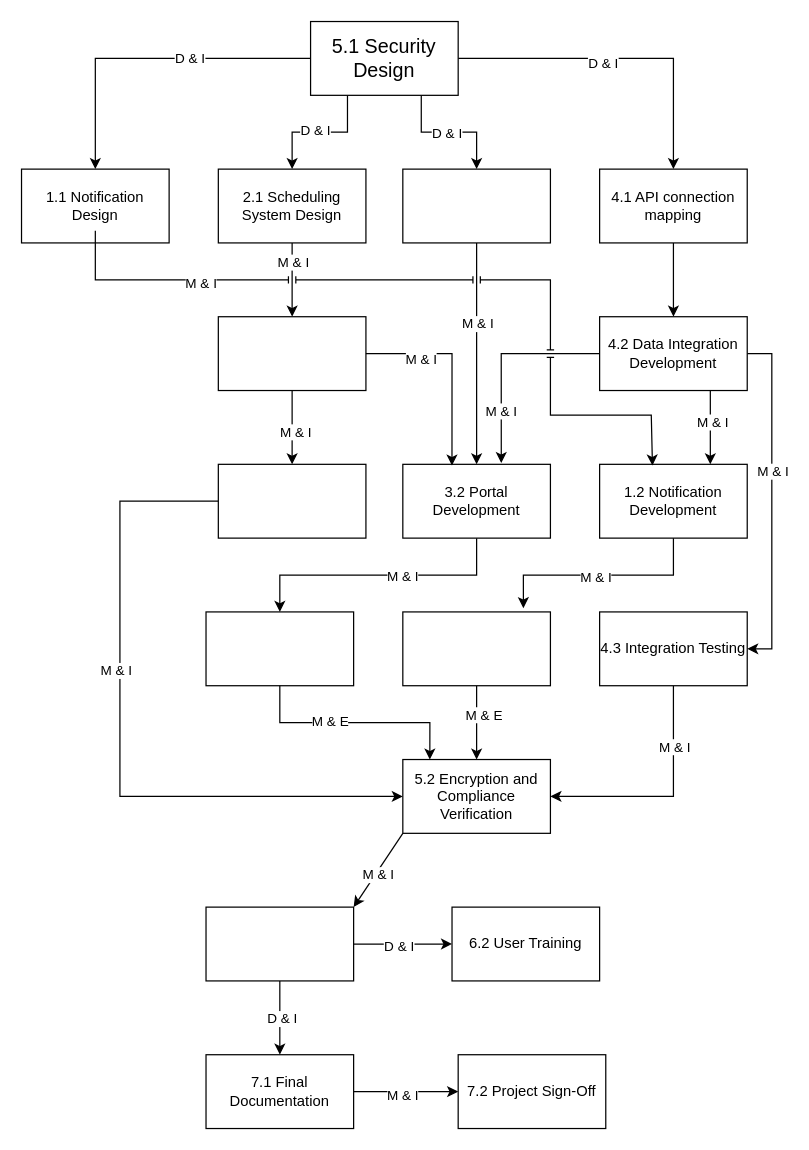
Some shapes in this 809 by 1150 pixel diagram are drawn without their labels. The centre of each missing label's shape, as x and y in pixels:
"1.3 Notification Testing" belongs at point 476,648.
"2.2 Scheduling System Development" belongs at point 291,353.
"2.3 System Testing" belongs at point 291,500.
"3.1 UI/UX Design" belongs at point 476,205.
"3.3 Portal Testing" belongs at point 279,648.
"6.1 Deployment" belongs at point 279,943.
